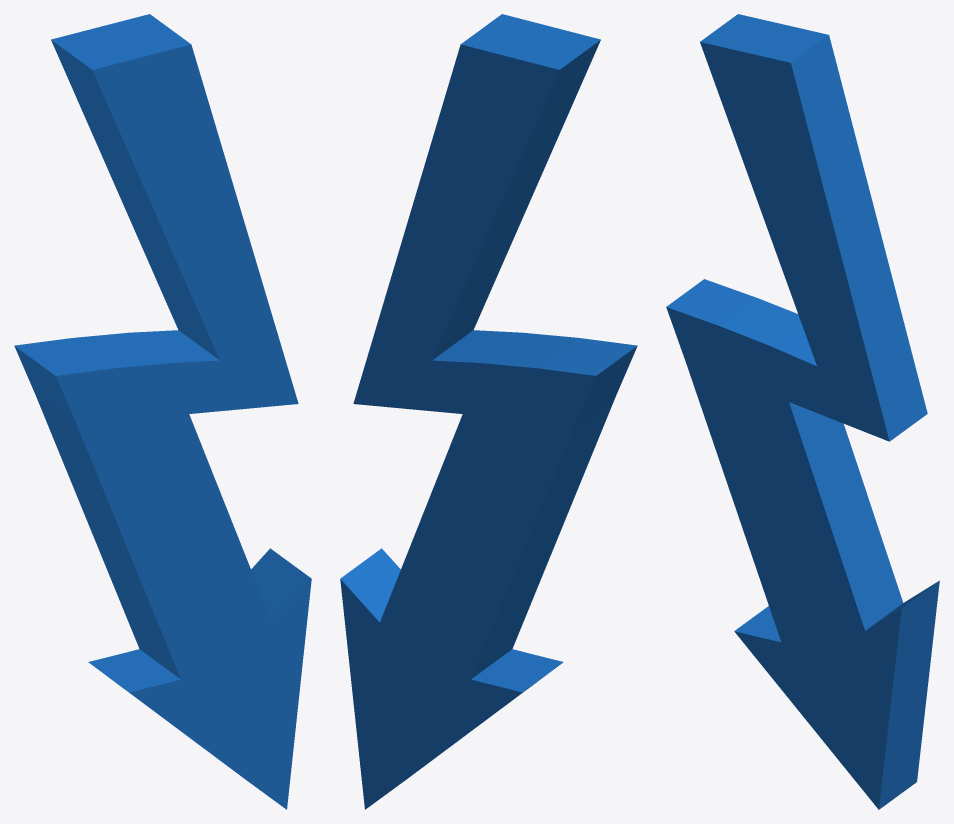
The model's file is Arrow_48.obj.
The picture shows the model from 3 angles, left to right: view 1: azimuth 30°, elevation 25°; view 2: azimuth 150°, elevation 25°; view 3: azimuth 330°, elevation 25°; orthographic projection. The views are drawn at different scales.
Parts seen in each view (by area): view 1: Arrow_48; view 2: Arrow_48; view 3: Arrow_48.
Part boxes in pixels (bbox=[...]): Arrow_48: bbox=[14, 14, 311, 809]; Arrow_48: bbox=[340, 14, 637, 809]; Arrow_48: bbox=[666, 14, 939, 809].
Bounding box in the file's own units: 2.64 × 7.78 × 0.7423.
